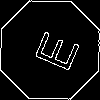E: (25, 25, 81, 74)
